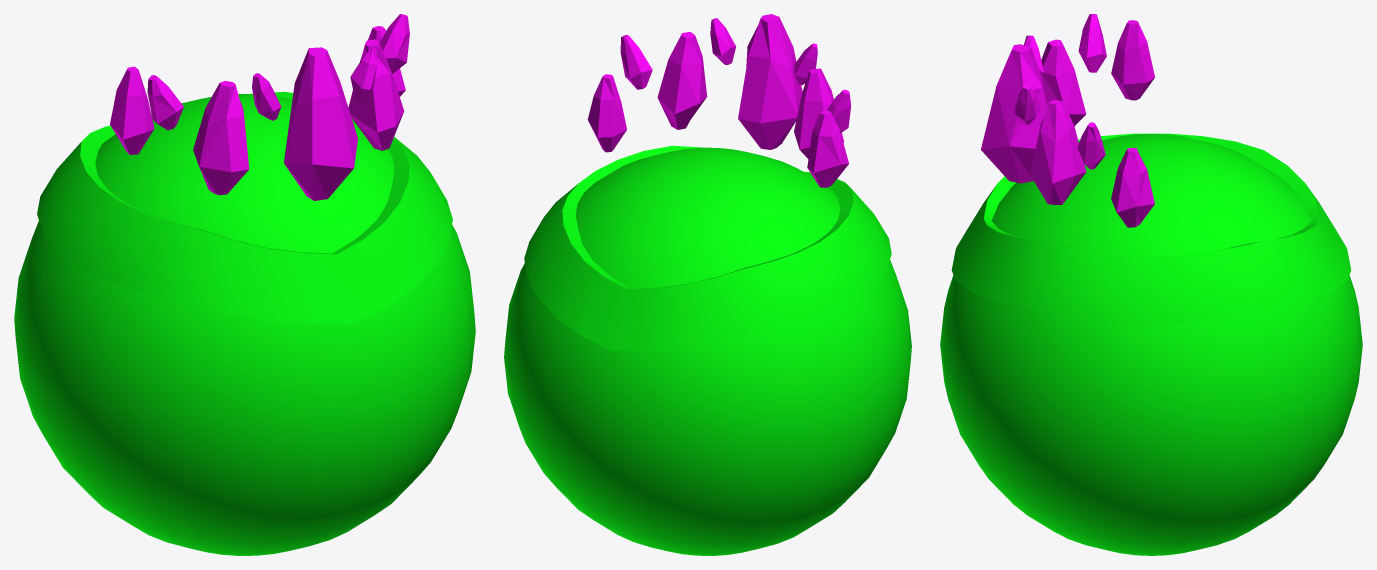
File: BossHead2.fbx
3 views of the same model, side by side, from view 1: azimuth 30°, elevation 25°; view 2: azimuth 150°, elevation 25°; view 3: azimuth 270°, elevation 25° (orthographic). The views are drawn at different scales.
Parts seen in each view (by area): view 1: BossHead, BossHeadCrystals; view 2: BossHead, BossHeadCrystals; view 3: BossHead, BossHeadCrystals.
Part boxes in pixels (x1,y1,x2,y2): BossHead: [14, 91, 475, 555]; BossHeadCrystals: [110, 14, 409, 200]; BossHead: [504, 145, 911, 555]; BossHeadCrystals: [587, 14, 851, 187]; BossHead: [940, 133, 1362, 555]; BossHeadCrystals: [981, 14, 1154, 227].
Bounding box in the file's own units: 100 × 128 × 100.
